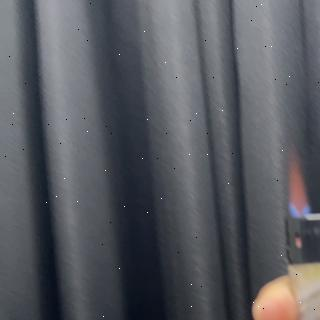fire: (286, 156, 310, 220)
